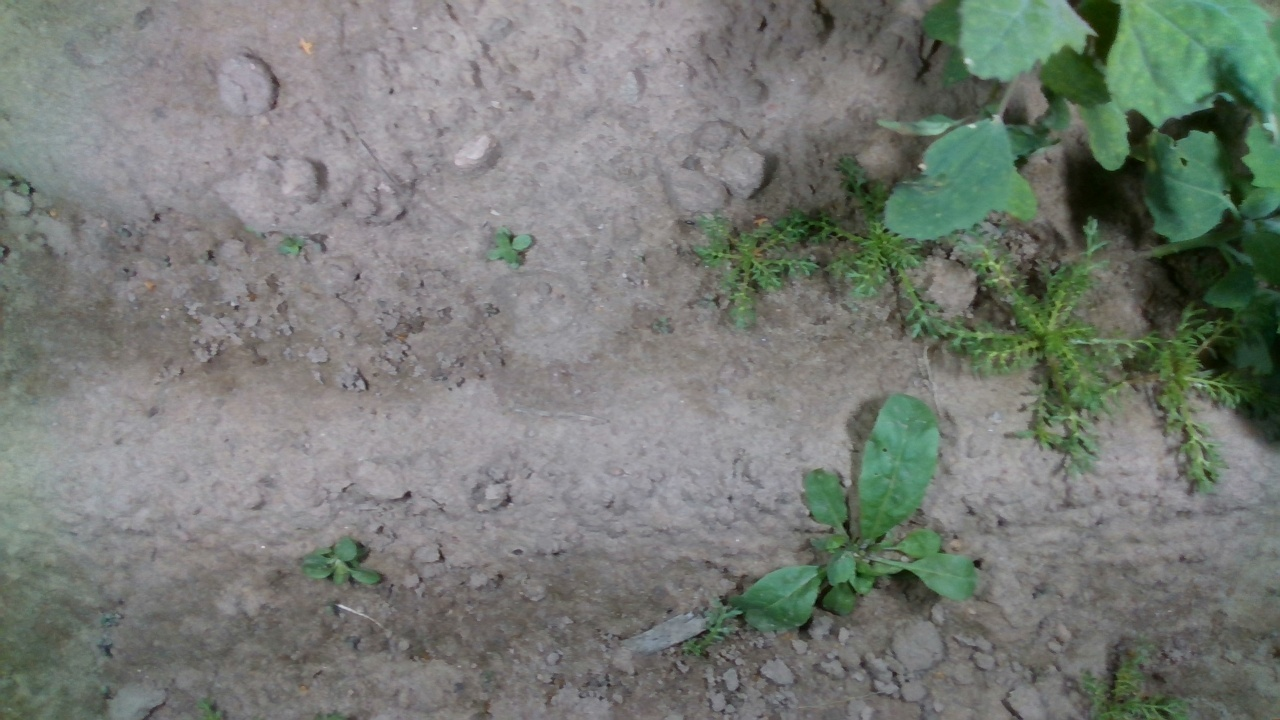weed: (299, 532, 382, 586), (485, 225, 533, 264), (277, 238, 308, 254)
